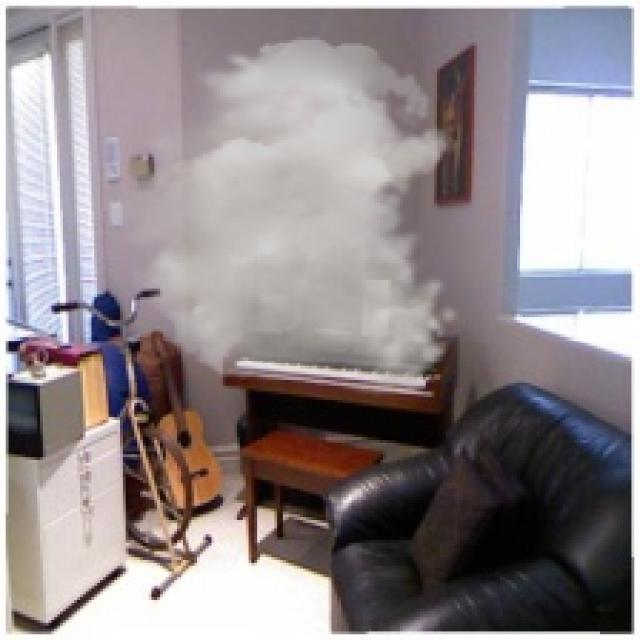smoke: (100, 37, 463, 397)
